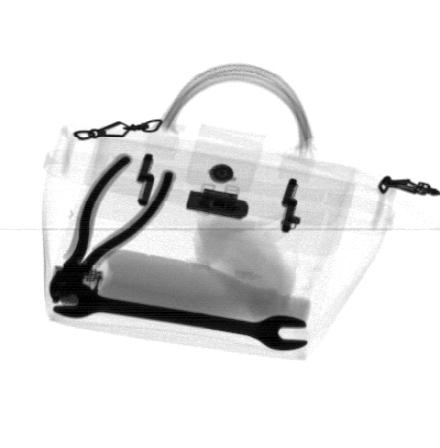Pliers: (48, 152, 176, 304)
Wrench: (50, 280, 309, 350)
